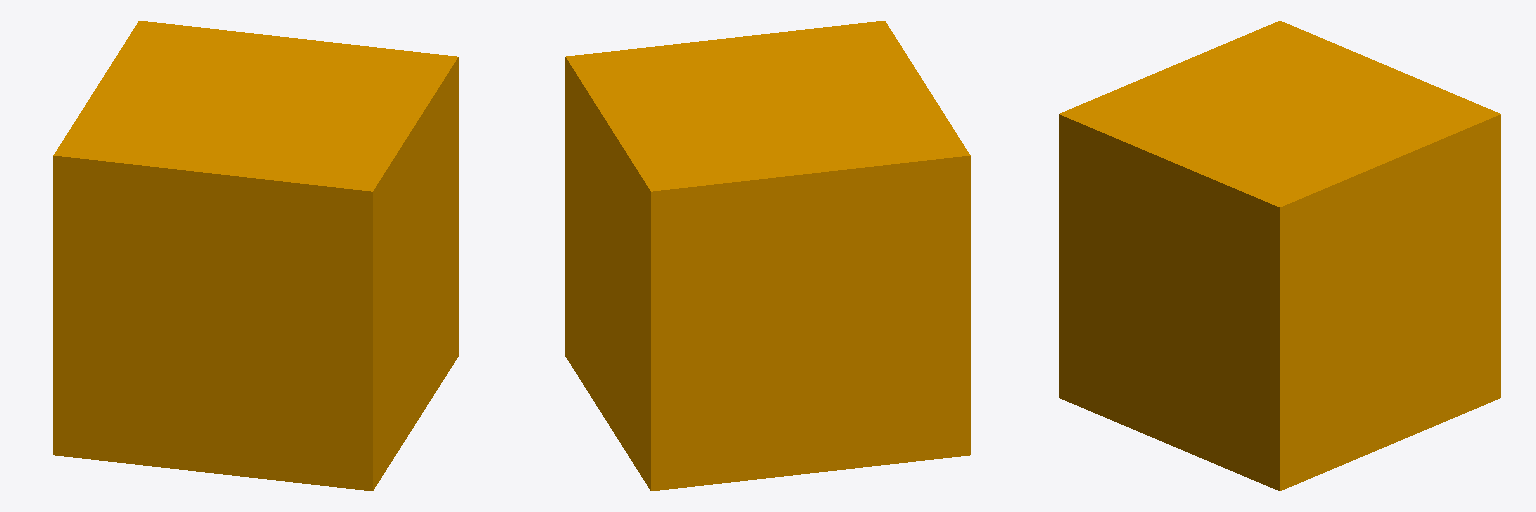
robot.urdf — simple_box:
<?xml version="1.0"?>
<robot name="simple_box">
    <link name="my_box">
        <inertial>
            <origin xyz="0.0 0.0 0.0" rpy="0.0 0.0 0.0"/>
            <mass value="0.2"/>
            <inertia ixx="0.0013" ixy="0.0" ixz="0.0" iyy="0.0013" iyz="0.0" izz="0.0013"/>
        </inertial>
        <visual>
            <origin xyz="0.0 0.0 0.0" rpy="0.0 0.0 0.785" />
            <geometry>
                <box size="0.2 0.2 0.2"/>
            </geometry>
        </visual>
        <collision>
            <origin xyz="0.0 0.0 0.0" rpy="0.0 0.0 0.785" />
            <geometry>
                <box size="0.2 0.2 0.2"/>
            </geometry>
        </collision>
    </link>

    <gazebo reference="my_box" >
        <material>Gazebo/Blue</material>
    </gazebo>


</robot>

--- Render facts (derived) ---
The picture shows the robot from 3 angles, left to right: view 1: azimuth 30°, elevation 25°; view 2: azimuth 150°, elevation 25°; view 3: azimuth 270°, elevation 25°; orthographic projection.
Robot: simple_box — 1 links, 0 joints (none); root link my_box; default pose: every joint at zero.
Visible links, largest first — view 1: my_box; view 2: my_box; view 3: my_box.
Link boxes in pixels (<box>): my_box: <box>53,21,458,490</box>; my_box: <box>565,21,970,490</box>; my_box: <box>1059,21,1500,490</box>.
Size in the robot's own frame: 0.2828 by 0.2828 by 0.2 metres.
Geometry: primitives only (box / cylinder / sphere), no mesh files.